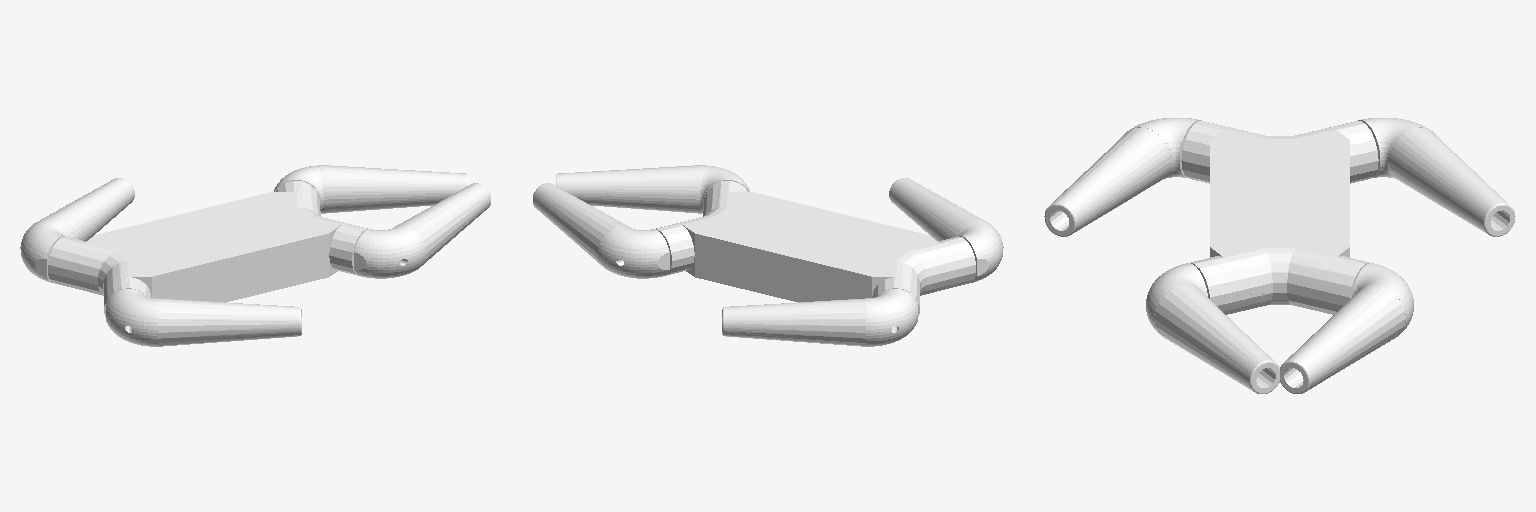
URDF robot description (29_degree):
<?xml version="1.0" encoding="utf-8"?>
<!-- This URDF was automatically created by SolidWorks to URDF Exporter! Originally created by [author] ([email redacted]) 
     Commit Version: 1.5.1-0-g916b5db  Build Version: 1.5.7152.31018
     For more information, please see http://wiki.ros.org/sw_urdf_exporter -->
<robot
  name="29_degree">
  <link
    name="base_link">
    <inertial>
      <origin
        xyz="6.245E-17 8.6268E-08 -1.7347E-18"
        rpy="0 0 0" />
      <mass
        value="2.803" />
      <inertia
        ixx="0.009194653"
        ixy="7.1467E-19"
        ixz="-8.6659E-09"
        iyy="0.046833811"
        iyz="9.3575E-18"
        izz="0.053642785" />
    </inertial>
    <visual>
      <origin
        xyz="0 0 0"
        rpy="0 0 0" />
      <geometry>
        <mesh
          filename="package://29_degree/meshes/base_link.STL" />
      </geometry>
      <material
        name="">
        <color
          rgba="1 1 1 1" />
      </material>
    </visual>
    <collision>
      <origin
        xyz="0 0 0"
        rpy="0 0 0" />
      <geometry>
        <mesh
          filename="package://29_degree/meshes/base_link.STL" />
      </geometry>
    </collision>
  </link>
  <link
    name="left_fromt_link">
    <inertial>
      <origin
        xyz="-8.1548E-08 0.084271 0.0048925"
        rpy="0 0 0" />
      <mass
        value="0.0985" />
      <inertia
        ixx="0.000470871"
        ixy="-1.1367E-10"
        ixz="4.9117E-10"
        iyy="0.000127229"
        iyz="-0.000161007"
        izz="0.000394162" />
    </inertial>
    <visual>
      <origin
        xyz="0 0 0"
        rpy="0 0 0" />
      <geometry>
        <mesh
          filename="package://29_degree/meshes/left_fromt_link.STL" />
      </geometry>
      <material
        name="">
        <color
          rgba="1 1 1 1" />
      </material>
    </visual>
    <collision>
      <origin
        xyz="0 0 0"
        rpy="0 0 0" />
      <geometry>
        <mesh
          filename="package://29_degree/meshes/left_fromt_link.STL" />
      </geometry>
    </collision>
  </link>
  <joint
    name="left_front_leg"
    type="continuous">
    <origin
      xyz="0.17994 0.090086 0"
      rpy="1.5708 1.5708 0" />
    <parent
      link="base_link" />
    <child
      link="left_fromt_link" />
    <axis
      xyz="0 0.48481 -0.87462" />
    <limit
      effort="5"
      velocity="487" />
  </joint>
  <link
    name="right_front_link">
    <inertial>
      <origin
        xyz="8.1548E-08 0.084271 -0.0048925"
        rpy="0 0 0" />
      <mass
        value="0.0985" />
      <inertia
        ixx="0.000470871"
        ixy="1.1367E-10"
        ixz="4.9117E-10"
        iyy="0.000127229"
        iyz="0.000161007"
        izz="0.000394162" />
    </inertial>
    <visual>
      <origin
        xyz="0 0 0"
        rpy="0 0 0" />
      <geometry>
        <mesh
          filename="package://29_degree/meshes/right_front_link.STL" />
      </geometry>
      <material
        name="">
        <color
          rgba="1 1 1 1" />
      </material>
    </visual>
    <collision>
      <origin
        xyz="0 0 0"
        rpy="0 0 0" />
      <geometry>
        <mesh
          filename="package://29_degree/meshes/right_front_link.STL" />
      </geometry>
    </collision>
  </link>
  <joint
    name="right_front_leg"
    type="continuous">
    <origin
      xyz="0.17994 -0.090086 0"
      rpy="1.5708 1.5708 0" />
    <parent
      link="base_link" />
    <child
      link="right_front_link" />
    <axis
      xyz="0 0.48481 0.87462" />
    <limit
      effort="5"
      velocity="487" />
  </joint>
  <link
    name="right_back_link">
    <inertial>
      <origin
        xyz="6.8027E-08 0.076078 0.036576"
        rpy="0 0 0" />
      <mass
        value="0.0985" />
      <inertia
        ixx="0.000470871"
        ixy="-5.6101E-10"
        ixz="7.21E-10"
        iyy="0.000053369"
        iyz="-0.000027828"
        izz="0.000468023" />
    </inertial>
    <visual>
      <origin
        xyz="0 0 0"
        rpy="0 0 0" />
      <geometry>
        <mesh
          filename="package://29_degree/meshes/right_back_link.STL" />
      </geometry>
      <material
        name="">
        <color
          rgba="1 1 1 1" />
      </material>
    </visual>
    <collision>
      <origin
        xyz="0 0 0"
        rpy="0 0 0" />
      <geometry>
        <mesh
          filename="package://29_degree/meshes/right_back_link.STL" />
      </geometry>
    </collision>
  </link>
  <joint
    name="right_back_leg"
    type="continuous">
    <origin
      xyz="-0.17994 -0.090086 0"
      rpy="2.0769 1.5708 0" />
    <parent
      link="base_link" />
    <child
      link="right_back_link" />
    <axis
      xyz="0 0 1" />
    <limit
      effort="5"
      velocity="487" />
  </joint>
  <link
    name="left_back_link">
    <inertial>
      <origin
        xyz="-6.8027E-08 0.048807 -0.068874"
        rpy="0 0 0" />
      <mass
        value="0.0985" />
      <inertia
        ixx="0.000470871"
        ixy="8.4021E-10"
        ixz="3.5862E-10"
        iyy="0.000174429"
        iyz="0.00019057"
        izz="0.000346963" />
    </inertial>
    <visual>
      <origin
        xyz="0 0 0"
        rpy="0 0 0" />
      <geometry>
        <mesh
          filename="package://29_degree/meshes/left_back_link.STL" />
      </geometry>
      <material
        name="">
        <color
          rgba="1 1 1 1" />
      </material>
    </visual>
    <collision>
      <origin
        xyz="0 0 0"
        rpy="0 0 0" />
      <geometry>
        <mesh
          filename="package://29_degree/meshes/left_back_link.STL" />
      </geometry>
    </collision>
  </link>
  <joint
    name="left_back_leg"
    type="continuous">
    <origin
      xyz="-0.17994 0.090086 0"
      rpy="1.5708 1.5708 0" />
    <parent
      link="base_link" />
    <child
      link="left_back_link" />
    <axis
      xyz="0 -0.48481 -0.87462" />
    <limit
      effort="5"
      velocity="487" />
  </joint>
</robot>

--- Facts derived from the render (not from the file) ---
Views: 3 orthographic renders of the robot side by side, from view 1: azimuth 30°, elevation 25°; view 2: azimuth 150°, elevation 25°; view 3: azimuth 270°, elevation 25°.
Model 29_degree with 5 links and 4 joints (4 continuous), rooted at base_link, posed every joint at zero.
Links seen in each view (by area): view 1: base_link, right_back_link, right_front_link, left_fromt_link, left_back_link; view 2: base_link, left_back_link, left_fromt_link, right_front_link, right_back_link; view 3: base_link, left_fromt_link, right_front_link, right_back_link, left_back_link.
Boxes of the visible links, x1,y1,x2,y2 form: base_link: (48, 181, 367, 316); right_back_link: (106, 289, 301, 346); right_front_link: (354, 183, 490, 278); left_fromt_link: (274, 165, 467, 213); left_back_link: (20, 178, 134, 282); base_link: (656, 181, 975, 316); left_back_link: (722, 289, 917, 346); left_fromt_link: (533, 183, 669, 278); right_front_link: (556, 165, 749, 213); right_back_link: (889, 178, 1003, 282); base_link: (1181, 121, 1378, 314); left_fromt_link: (1280, 263, 1413, 393); right_front_link: (1146, 263, 1279, 393); right_back_link: (1044, 118, 1201, 236); left_back_link: (1358, 118, 1515, 236).
Size in the robot's own frame: 0.6253 by 0.5042 by 0.064 metres.
5 mesh visuals loaded from 5 distinct referenced files (5 binary STL).